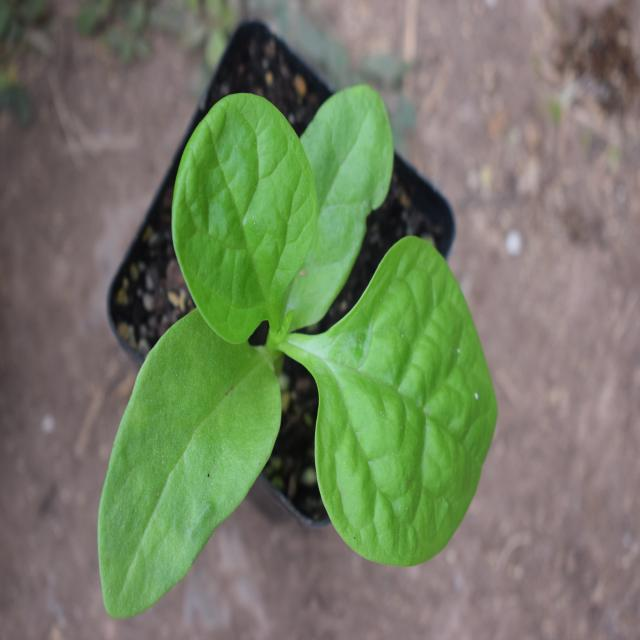Ceylon spinach: (105, 106, 499, 584)
